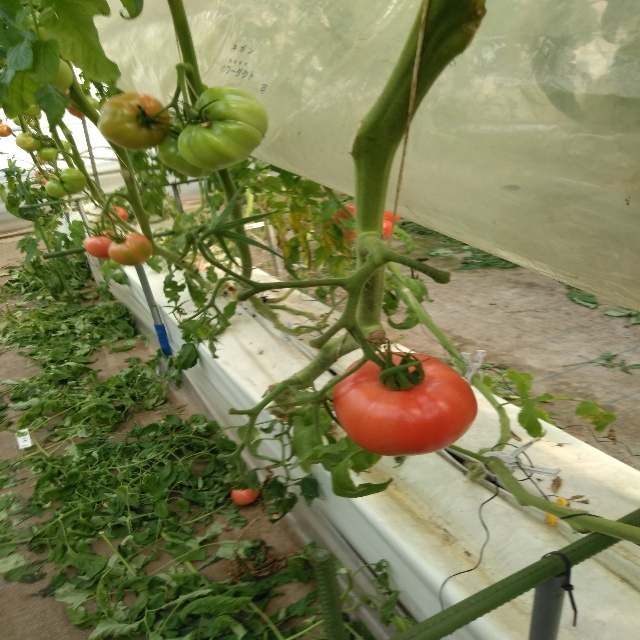b_fully_ripened: (333, 351, 478, 457), (85, 230, 122, 258)
b_green: (178, 86, 268, 171), (156, 119, 216, 178), (59, 169, 87, 193), (15, 133, 41, 153), (46, 179, 69, 198), (37, 147, 59, 161), (23, 104, 41, 117), (56, 140, 72, 153)
b_half_ripened: (98, 91, 171, 150), (108, 233, 153, 266), (231, 485, 259, 506), (0, 124, 13, 138)
